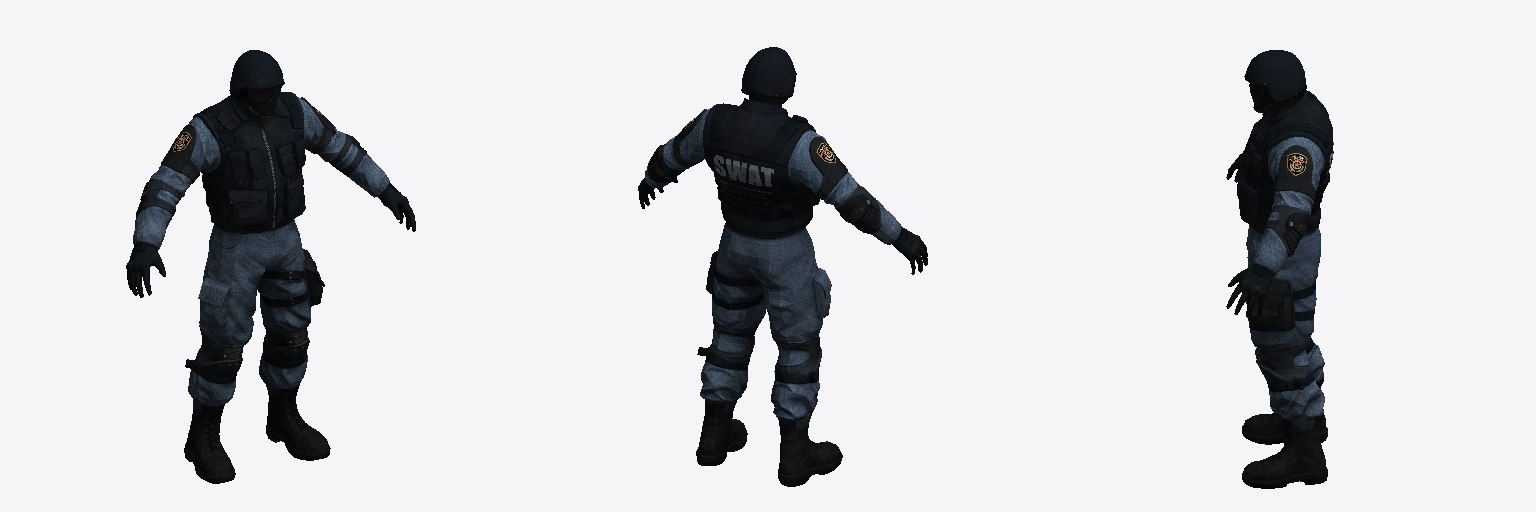
The picture shows the model from 3 angles: view 1: azimuth 30°, elevation 25°; view 2: azimuth 150°, elevation 25°; view 3: azimuth 270°, elevation 25°; orthographic projection.
Visible parts, largest first — view 1: GCPDSwatLegs, GCPDSwatTorso, GCPDSwatHelmet; view 2: GCPDSwatLegs, GCPDSwatTorso, GCPDSwatHelmet; view 3: GCPDSwatLegs, GCPDSwatTorso, GCPDSwatHelmet.
Part boxes in pixels (left/top/right/bottom): GCPDSwatLegs: left=184, top=219, right=330, bottom=483; GCPDSwatTorso: left=126, top=92, right=415, bottom=297; GCPDSwatHelmet: left=229, top=50, right=284, bottom=124; GCPDSwatLegs: left=696, top=223, right=842, bottom=486; GCPDSwatTorso: left=638, top=98, right=927, bottom=274; GCPDSwatHelmet: left=741, top=47, right=796, bottom=106; GCPDSwatLegs: left=1242, top=224, right=1327, bottom=488; GCPDSwatTorso: left=1226, top=90, right=1333, bottom=317; GCPDSwatHelmet: left=1244, top=50, right=1306, bottom=117.
Size of the model in its own units: 2.59 by 3.61 by 0.859.
4 materials, 3 textured.